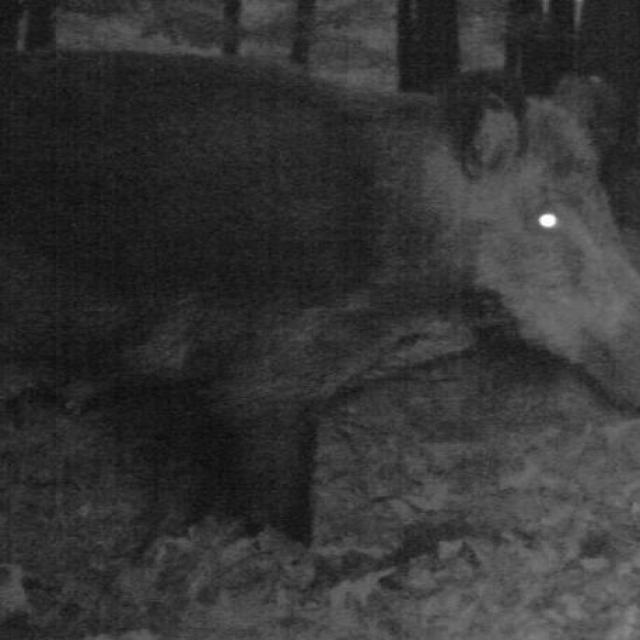pig: (20, 27, 640, 517)
